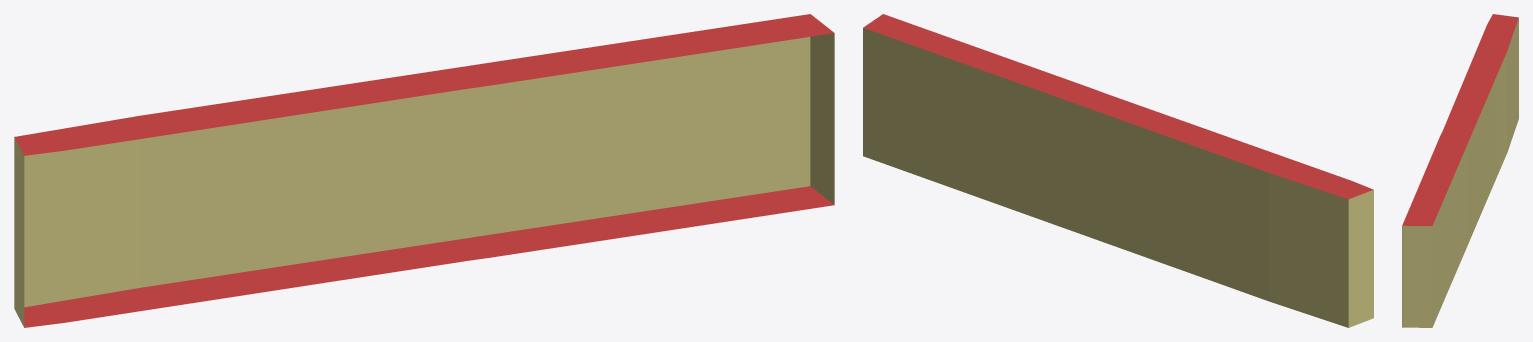
3 views of the same model, side by side, from view 1: azimuth 30°, elevation 25°; view 2: azimuth 150°, elevation 25°; view 3: azimuth 270°, elevation 25° (orthographic). The views are drawn at different scales.
Parts seen in each view (by area): view 1: group_4, group_3, group_5; view 2: group_4, group_3; view 3: group_4, group_3.
Part boxes in pixels (x1,y1,x2,y2): group_4: [14, 33, 834, 327]; group_3: [14, 14, 833, 155]; group_5: [24, 186, 833, 327]; group_4: [863, 28, 1373, 327]; group_3: [863, 14, 1373, 199]; group_4: [1402, 17, 1518, 327]; group_3: [1402, 14, 1518, 226].
Size of the model in its own units: 68.99 by 16.03 by 15.44.
